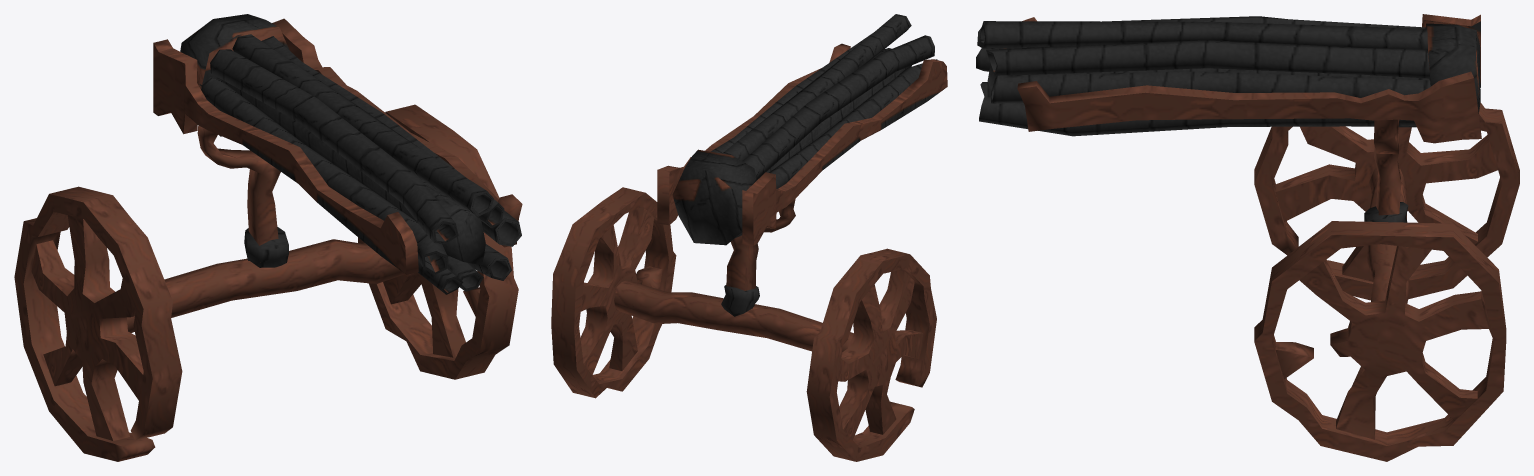
File: Metralhadora_3.glb
3 renders of one model, left to right at view 1: azimuth 30°, elevation 25°; view 2: azimuth 150°, elevation 25°; view 3: azimuth 270°, elevation 25°, orthographic. The views are drawn at different scales.
Visible parts, largest first — view 1: Metralhadora.3; view 2: Metralhadora.3; view 3: Metralhadora.3.
Part boxes in pixels (left/top/right/bottom): Metralhadora.3: left=14, top=14, right=522, bottom=461; Metralhadora.3: left=551, top=14, right=947, bottom=461; Metralhadora.3: left=976, top=14, right=1519, bottom=461.
Size of the model in its own units: 1.36 by 1.29 by 1.8.
1 material, 1 textured.
